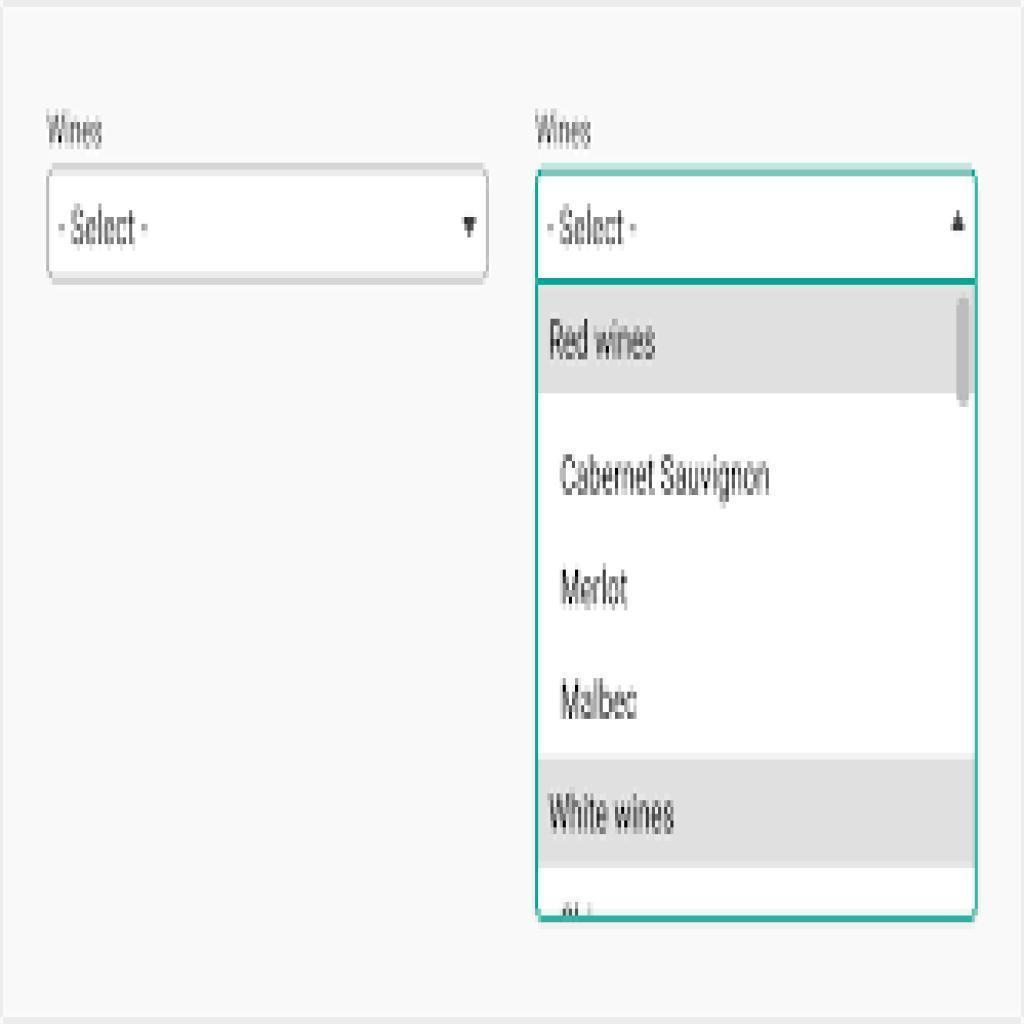dropdown: (47, 168, 489, 278), (537, 169, 975, 277)
